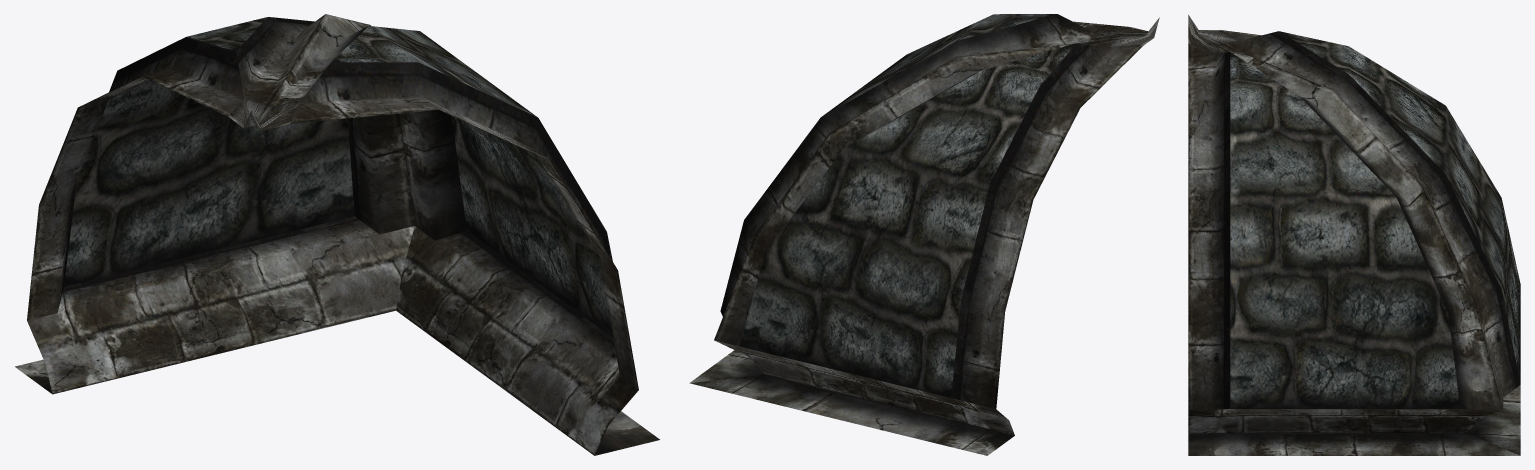
File: corner_concave_short.dae
The picture shows the model from 3 angles, left to right: view 1: azimuth 30°, elevation 25°; view 2: azimuth 150°, elevation 25°; view 3: azimuth 270°, elevation 25°; orthographic projection. The views are drawn at different scales.
Visible parts, largest first — view 1: polySurface1; view 2: polySurface1; view 3: polySurface1.
Part boxes in pixels (x1,y1,x2,y2): polySurface1: [15, 14, 659, 455]; polySurface1: [689, 14, 1159, 455]; polySurface1: [1188, 15, 1520, 455].
Bounding box in the file's own units: 2 × 2 × 2.
